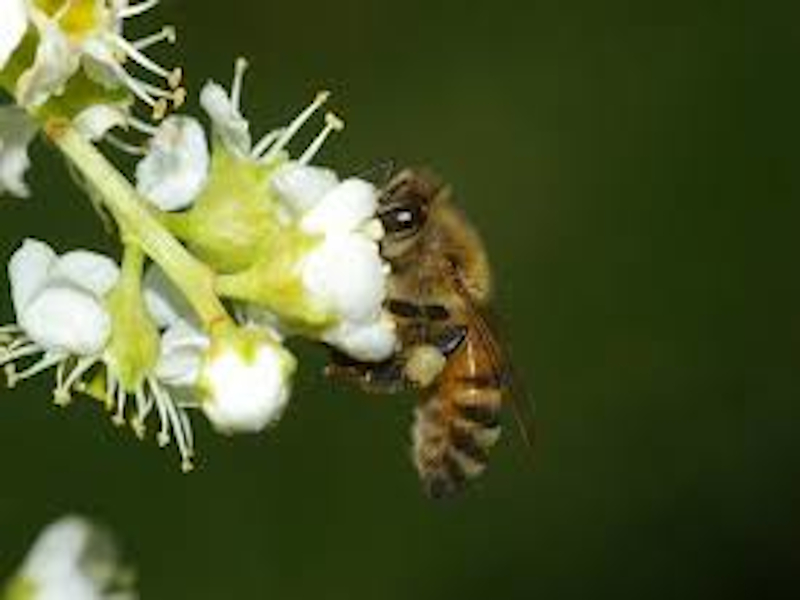abeja: (291, 136, 551, 529)
